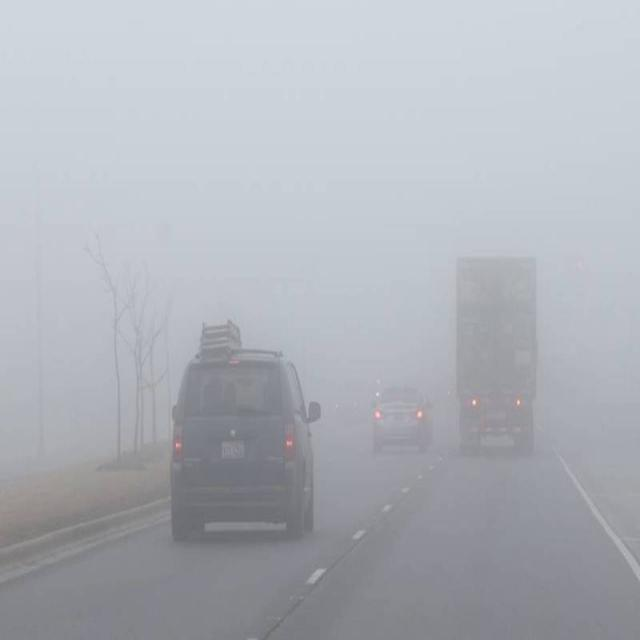bus: (455, 255, 539, 458)
car: (168, 341, 317, 542), (371, 385, 429, 454), (331, 385, 361, 416)
